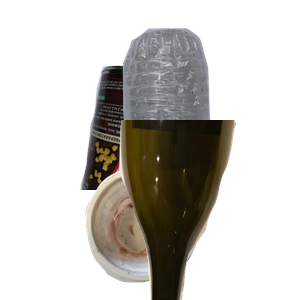glass: (117, 120, 300, 300)
metal: (78, 63, 266, 243)
plastic: (111, 26, 300, 206)
trash: (83, 163, 276, 300)
